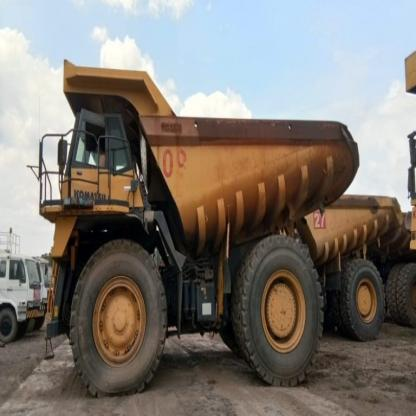dump_truck: (40, 59, 358, 400)
